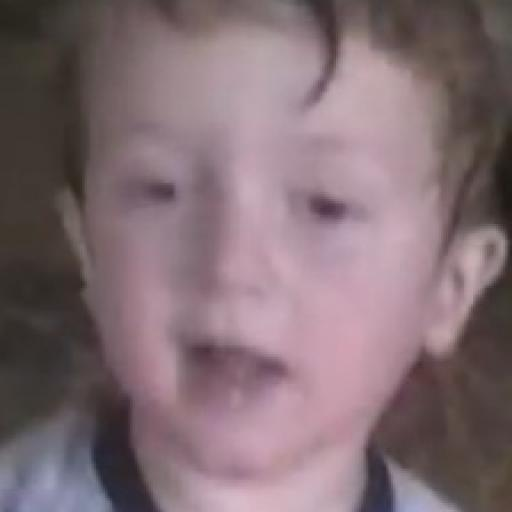Autism: (72, 0, 512, 512)
